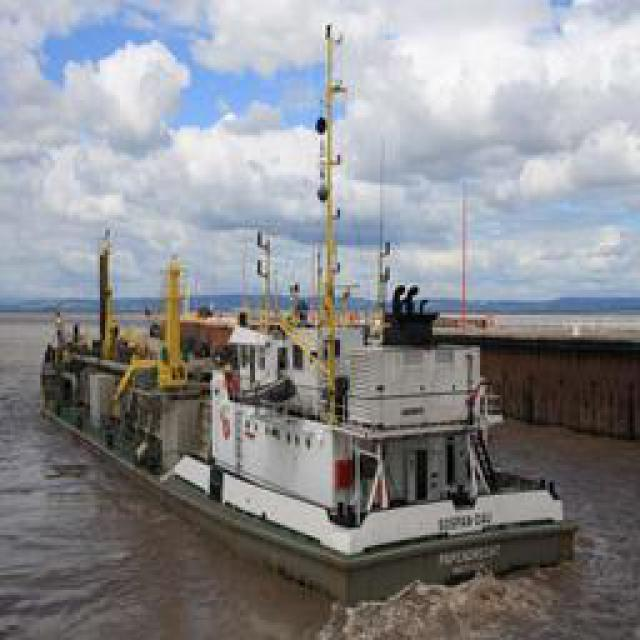Ship: (37, 231, 567, 566)
